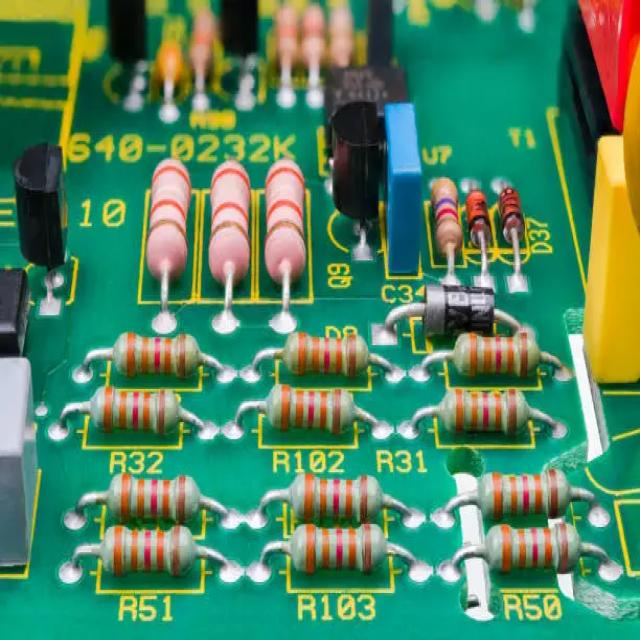diode: (412, 278, 513, 338)
resistor: (278, 511, 404, 594), (84, 519, 208, 597), (206, 156, 262, 311), (478, 521, 596, 589), (103, 314, 212, 385), (287, 463, 396, 531), (100, 456, 210, 523), (264, 154, 310, 311), (145, 150, 196, 291), (433, 380, 528, 453), (73, 383, 198, 438), (452, 326, 552, 389), (477, 460, 573, 525), (265, 384, 361, 446), (275, 323, 368, 385), (429, 167, 456, 264)
transistor: (7, 145, 84, 310), (327, 92, 385, 264)
zener diode: (464, 169, 496, 291), (493, 165, 529, 273)
